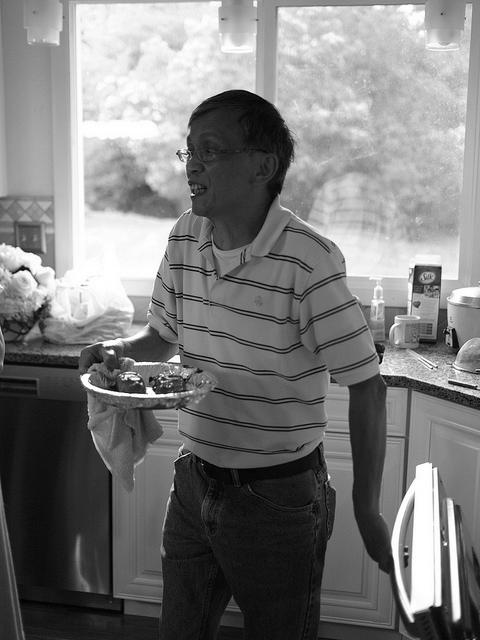glass: (389, 315, 427, 347)
